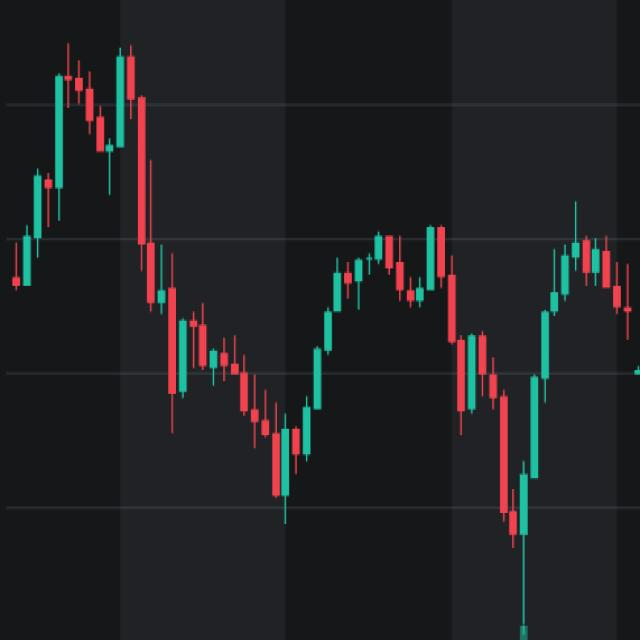Resistance-Emerging: (285, 224, 638, 542)
